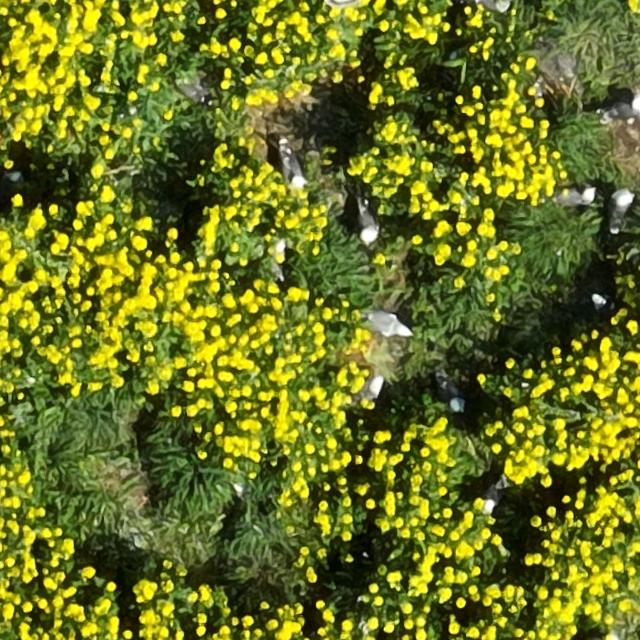umineko: (364, 312, 414, 336), (610, 190, 634, 227), (359, 204, 379, 246), (282, 149, 304, 187), (604, 96, 640, 119), (438, 379, 463, 412), (481, 479, 504, 512), (588, 294, 616, 320), (358, 375, 385, 401), (561, 188, 596, 204)
